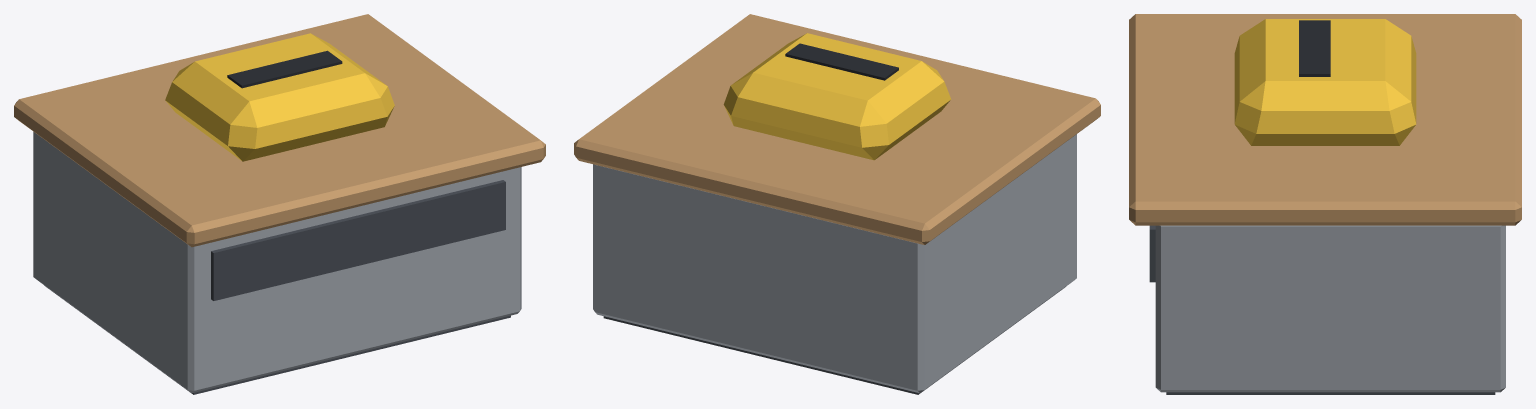
File: keyboardsmash_p2_4.glb
3 views of the same model, side by side, from view 1: azimuth 30°, elevation 25°; view 2: azimuth 150°, elevation 25°; view 3: azimuth 270°, elevation 25° (orthographic). The views are drawn at different scales.
Parts seen in each view (by area): view 1: keyboardsmash_p2_4_mesh_Desk, keyboardsmash_p2_4_mesh; view 2: keyboardsmash_p2_4_mesh_Desk, keyboardsmash_p2_4_mesh; view 3: keyboardsmash_p2_4_mesh_Desk, keyboardsmash_p2_4_mesh.
Boxes of the visible parts, <box> form: keyboardsmash_p2_4_mesh_Desk: <box>14,14,545,394</box>; keyboardsmash_p2_4_mesh: <box>165,33,394,161</box>; keyboardsmash_p2_4_mesh_Desk: <box>574,14,1100,394</box>; keyboardsmash_p2_4_mesh: <box>723,33,951,160</box>; keyboardsmash_p2_4_mesh_Desk: <box>1129,14,1521,394</box>; keyboardsmash_p2_4_mesh: <box>1234,19,1416,145</box>.
Size of the model in its own units: 0.86 by 0.546 by 0.74.
